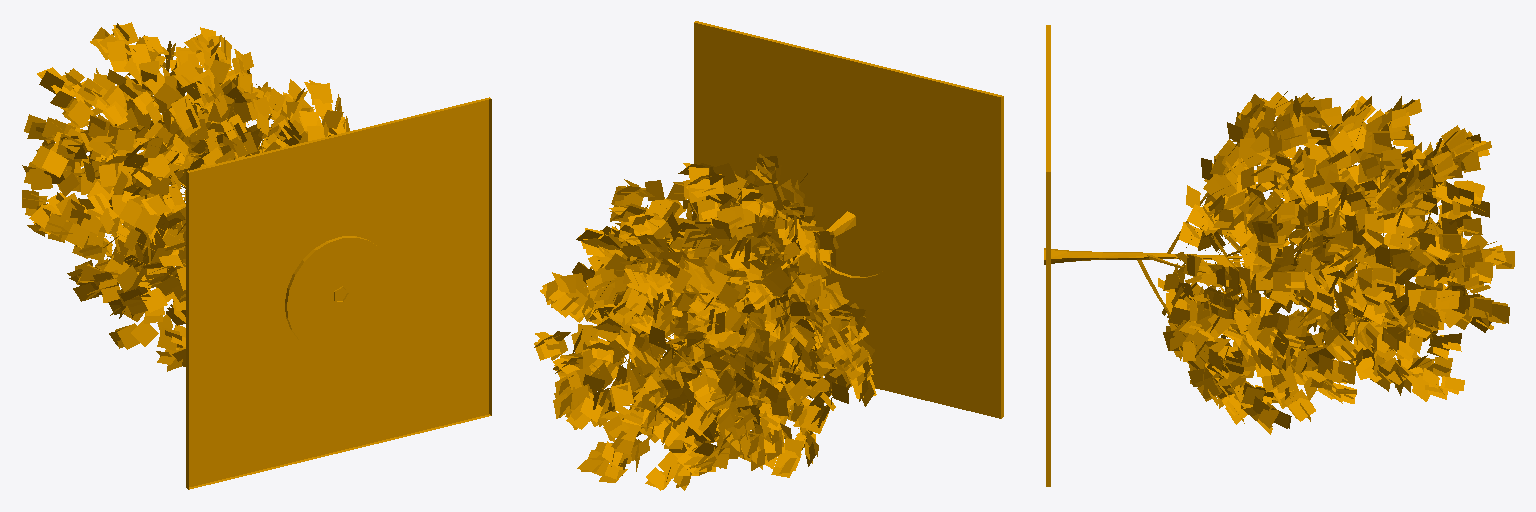
URDF robot description (hummingbird):
<?xml version="1.0"?>
<robot name="hummingbird">

  <!-- Body Link -->
  <link name="body">
    <!-- Visual representation of the model -->
    <visual>
      <geometry>
        <!-- Path to the .obj model file -->
        <mesh filename="tree1.obj" scale="1 1 1"/>
      </geometry>
      <material name="white"/>
    </visual>

    <!-- Collision geometry (if you want collision detection) -->
    <collision>
      <geometry>
        <!-- Path to the .obj model for collision -->
        <mesh filename="tree1.obj" scale="1 1 1"/>
      </geometry>
    </collision>
  </link>

</robot>

--- Render facts (derived) ---
Views: 3 orthographic renders of the robot side by side, from view 1: azimuth 30°, elevation 25°; view 2: azimuth 150°, elevation 25°; view 3: azimuth 270°, elevation 25°.
Robot: hummingbird — 1 links, 0 joints (none); root link body; default pose: every joint at zero.
Visible links, largest first — view 1: body; view 2: body; view 3: body.
Link boxes in pixels (left/top/right/bottom): body: left=22, top=22, right=491, bottom=489; body: left=534, top=21, right=1003, bottom=490; body: left=1044, top=25, right=1514, bottom=486.
Bounding box of the posed robot: 242 × 325 × 247 m (x, y, z).
1 mesh visuals loaded from 1 distinct referenced files (1 OBJ).